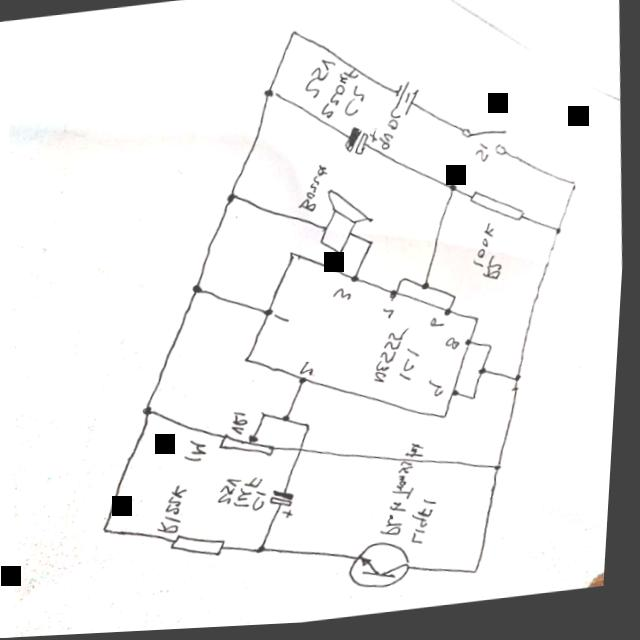capacitor: (344, 126, 382, 162), (273, 490, 303, 525)
crossover: (295, 445, 315, 463)
junction: (471, 398, 484, 410), (487, 346, 500, 358), (194, 286, 207, 298), (226, 194, 239, 206), (400, 278, 413, 290), (570, 184, 583, 196), (474, 572, 486, 584), (261, 547, 273, 559), (283, 417, 295, 429), (262, 412, 274, 424), (146, 406, 158, 418), (263, 91, 275, 103), (288, 32, 300, 44), (366, 242, 378, 254), (422, 285, 434, 297), (496, 468, 509, 479), (480, 371, 493, 382), (306, 425, 319, 436), (553, 233, 566, 244), (515, 379, 527, 390), (105, 527, 117, 538), (449, 188, 461, 199), (451, 298, 463, 309)
resistor: (468, 189, 530, 234), (220, 429, 281, 466), (174, 531, 235, 565)
source: (392, 84, 423, 123)
switch: (458, 127, 516, 166)
text: (377, 446, 435, 544), (301, 57, 372, 125), (374, 330, 428, 392), (220, 475, 276, 520), (159, 485, 197, 538), (297, 166, 334, 217), (416, 502, 445, 551), (374, 112, 406, 155), (473, 227, 500, 275), (187, 440, 214, 466), (485, 259, 508, 287), (234, 412, 255, 438), (430, 383, 450, 405), (474, 146, 492, 168), (301, 363, 321, 381), (334, 291, 356, 307), (448, 341, 466, 357), (432, 321, 449, 334), (385, 313, 399, 325)
transistor: (348, 542, 421, 598)
